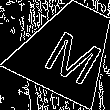M_NE: (33, 15, 103, 82)
